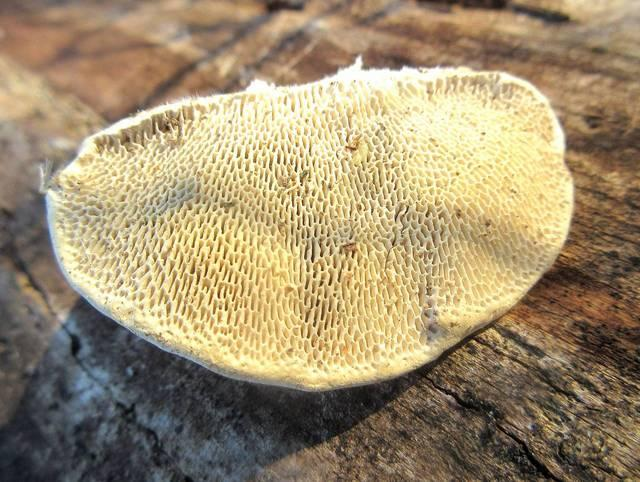Non-edible Mushroom: (39, 55, 575, 394)
